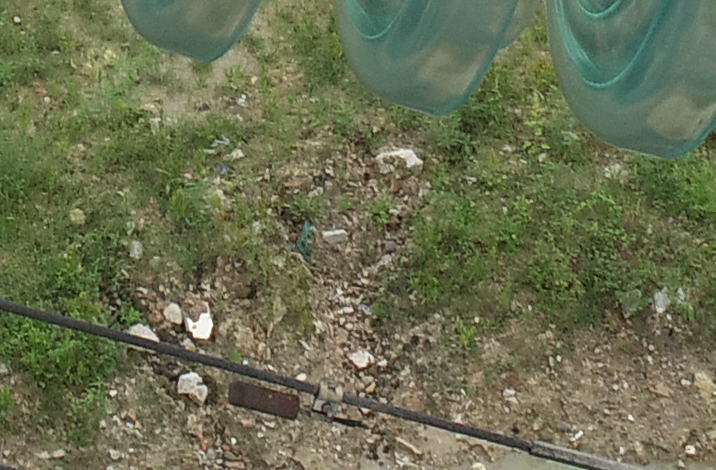damper_defect: (227, 375, 371, 432)
